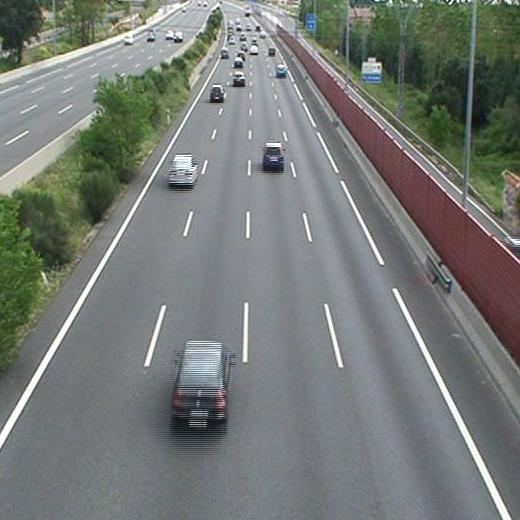car: (172, 341, 228, 421), (168, 156, 196, 185), (263, 143, 284, 167), (210, 86, 223, 100), (233, 72, 246, 85), (275, 63, 287, 76), (220, 48, 229, 58), (248, 45, 258, 54), (268, 46, 277, 55), (233, 58, 242, 66)
